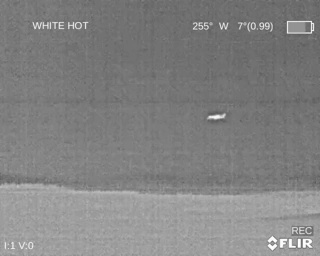AIRPLANE: (206, 112, 226, 120)
